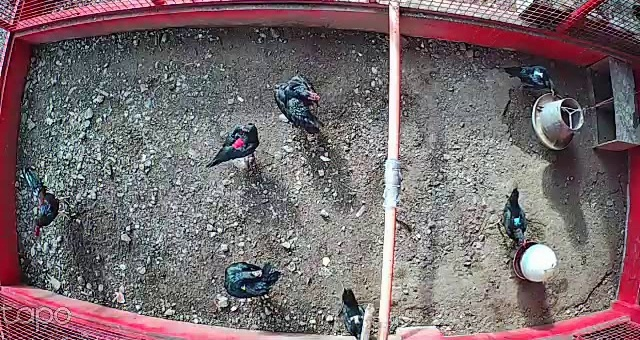Chicken: (268, 72, 326, 136), (204, 122, 261, 167), (221, 259, 282, 300), (499, 59, 559, 100), (493, 187, 531, 250)
Rooster: (17, 163, 77, 245)
Saddle_Color_Blue: (515, 216, 520, 225)
Saddle_Color_Red: (232, 138, 244, 150)
